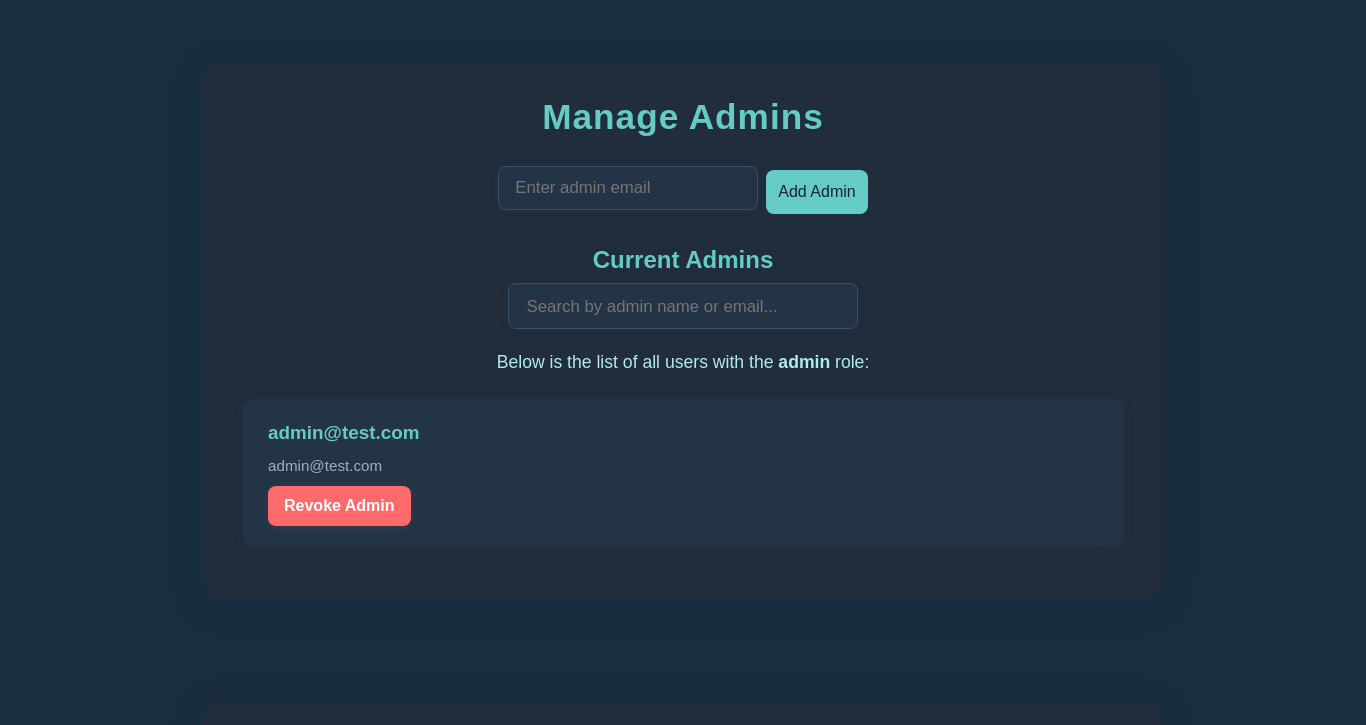
Test: ManageAdmins › revokes an admin with a reason
Check: the 1st text "admin@test.com" is shown, box [268, 422, 420, 443]
Click the button "Revoke Admin" at (339, 506), box [268, 486, 410, 526]
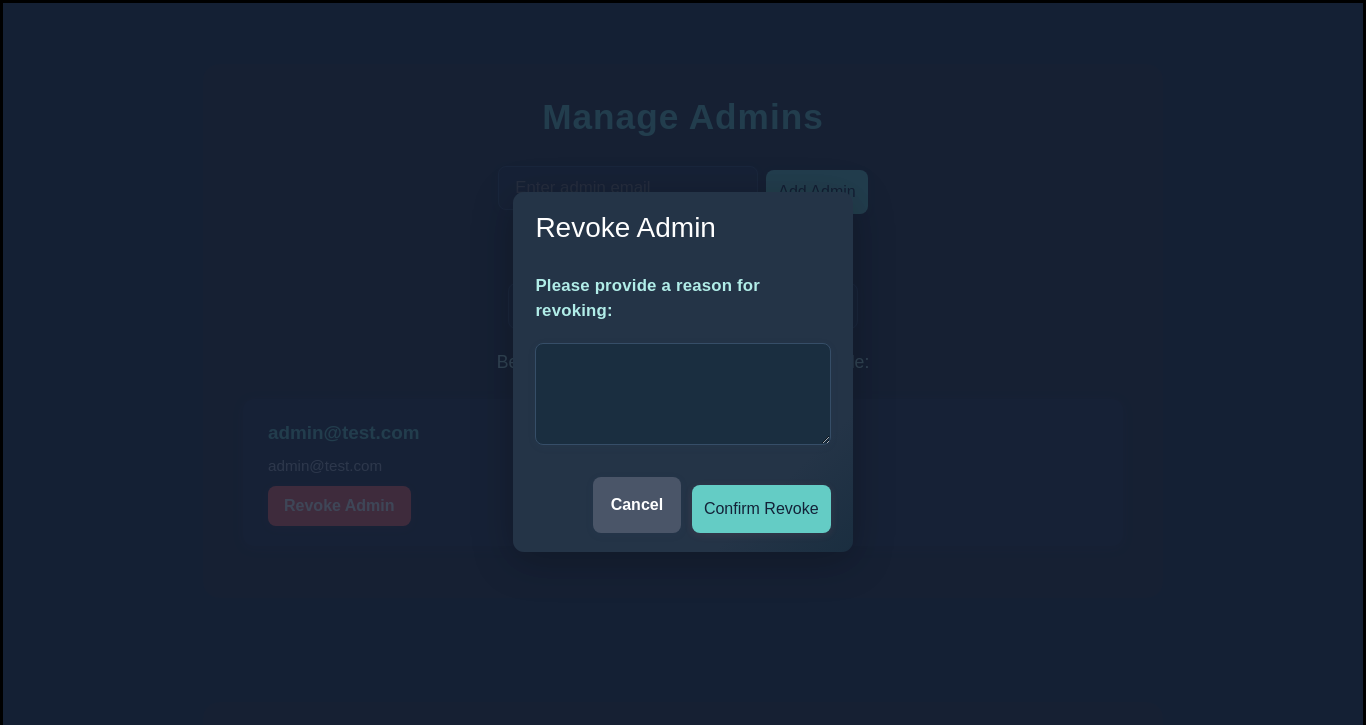
Type "Violation of rules" into the text box labelled "Please provide a reason for revoking:" at (683, 394), box [535, 343, 831, 445]
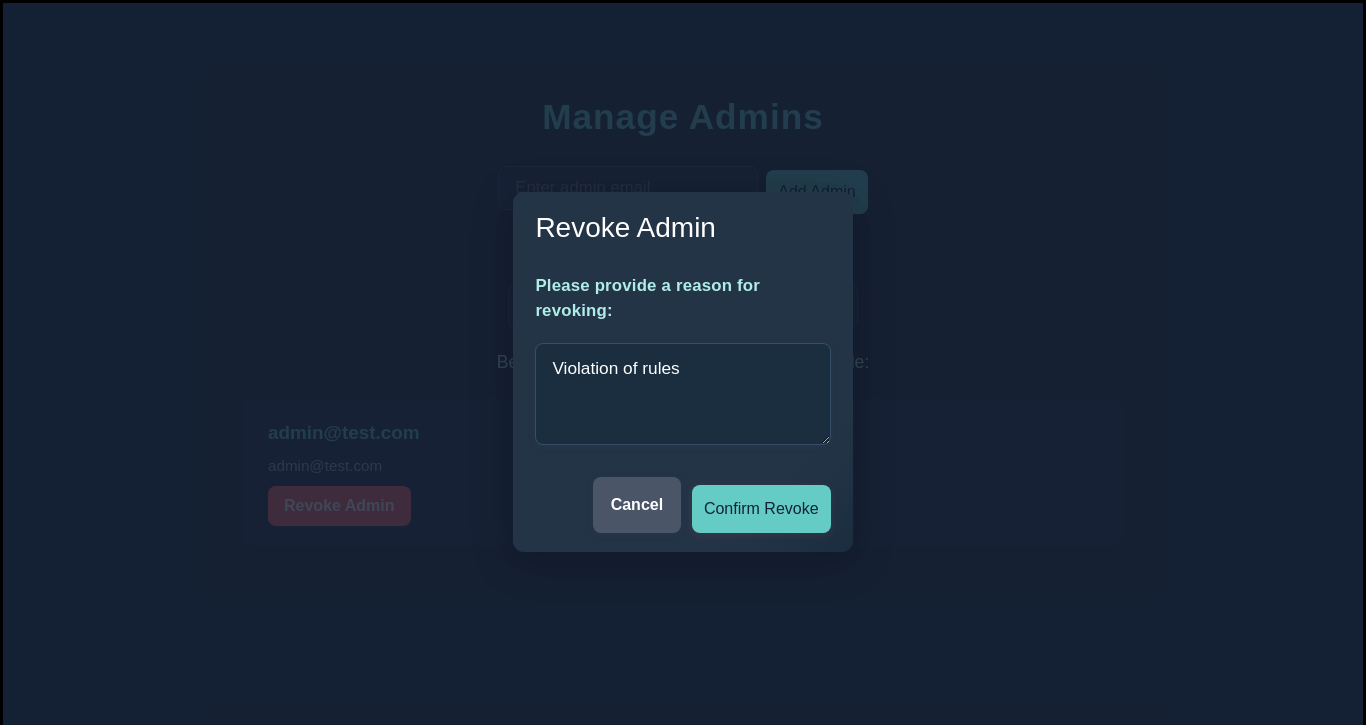
Click the button "Confirm Revoke" at (761, 509), box [692, 485, 831, 533]
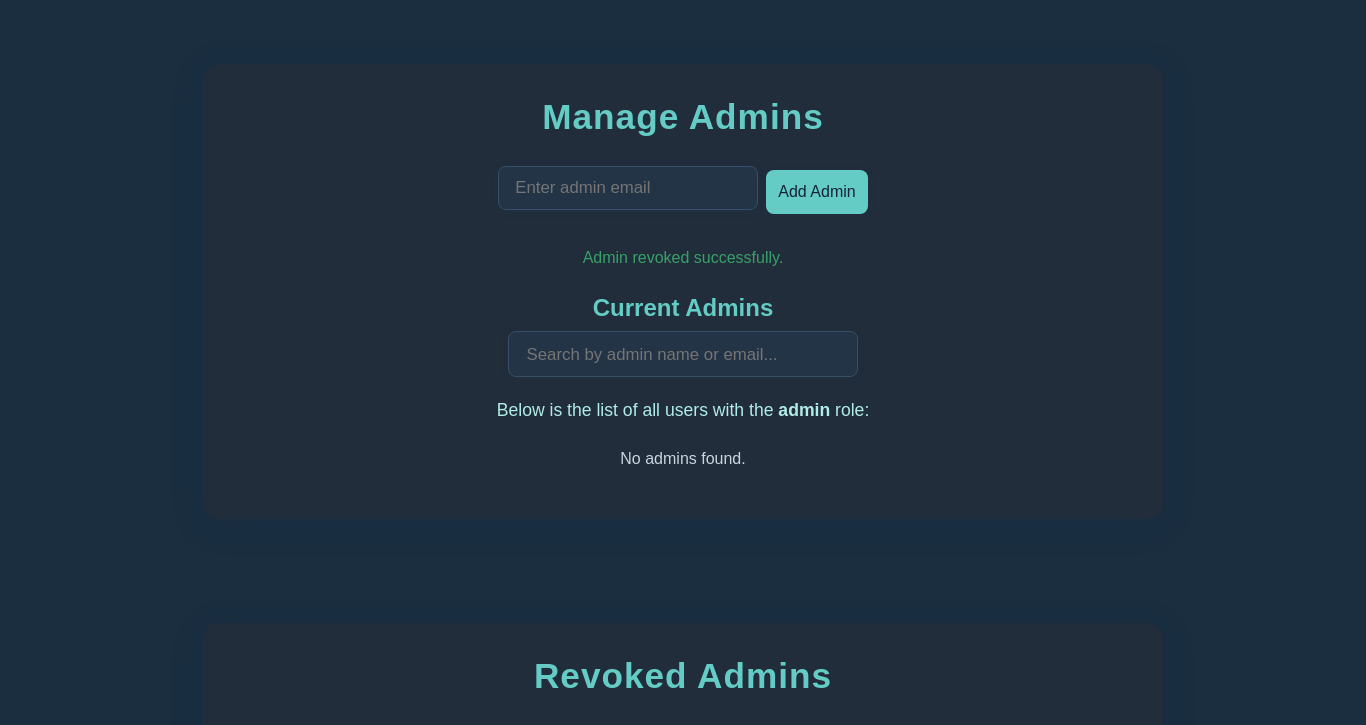
Check: the text "Admin revoked successfully." is shown, box [583, 249, 783, 266]
